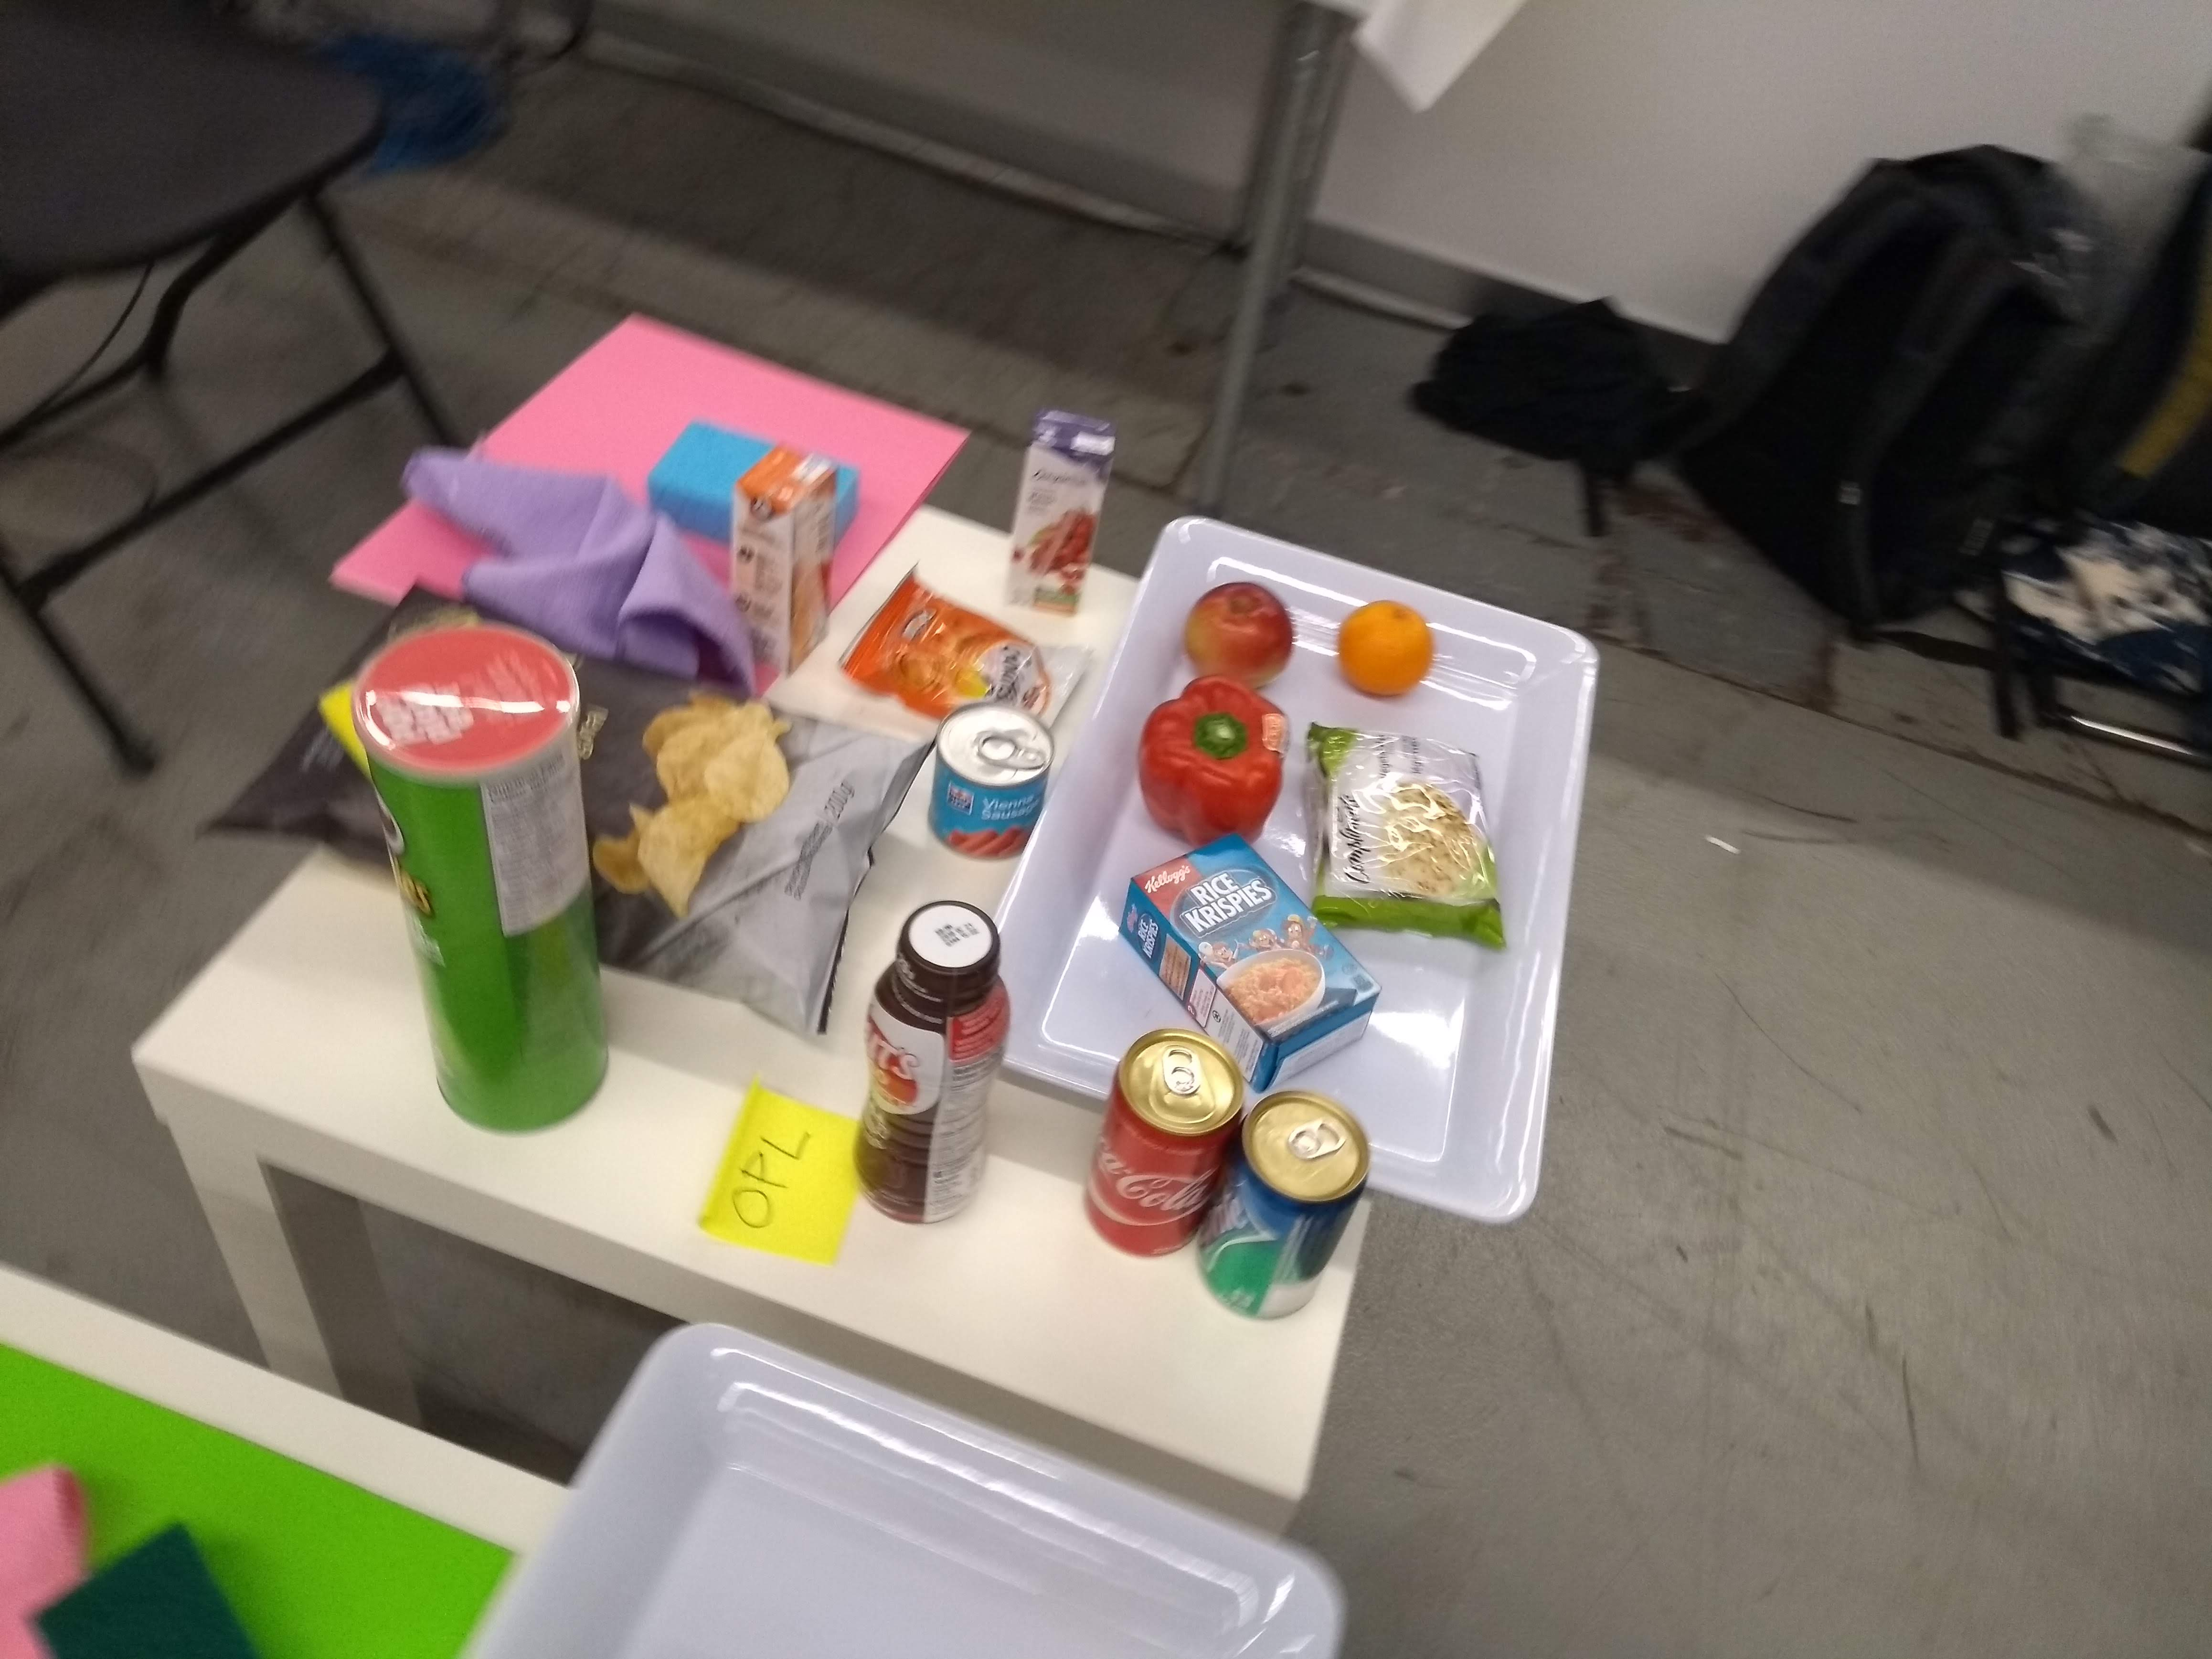apple: (1181, 579, 1298, 697)
cereal: (1108, 831, 1388, 1101)
chocolate_drink: (850, 897, 1019, 1230)
coke: (1080, 1032, 1251, 1269)
crackers: (831, 565, 1089, 746)
grape_juice: (986, 401, 1129, 624)
orange: (1331, 598, 1442, 706)
orange_juice: (725, 441, 840, 676)
paprika: (1134, 674, 1292, 857)
pringles: (348, 624, 617, 1141)
sausages: (921, 711, 1062, 859)
sprite: (1186, 1082, 1383, 1337)
